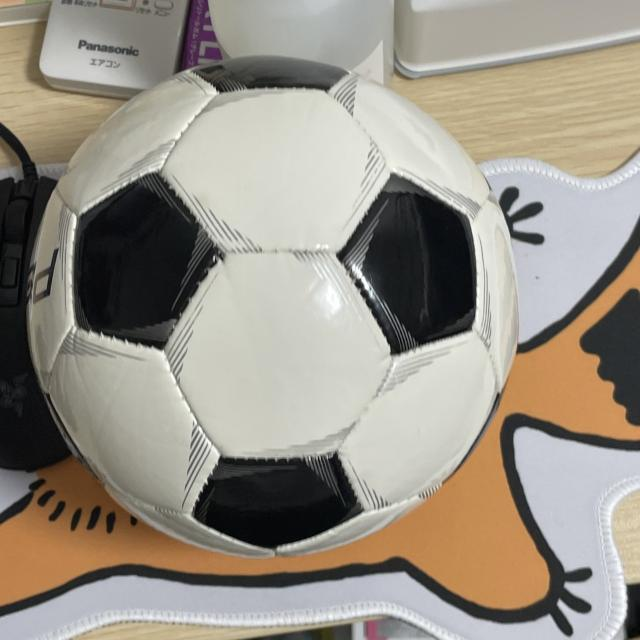ball: (23, 53, 517, 561)
